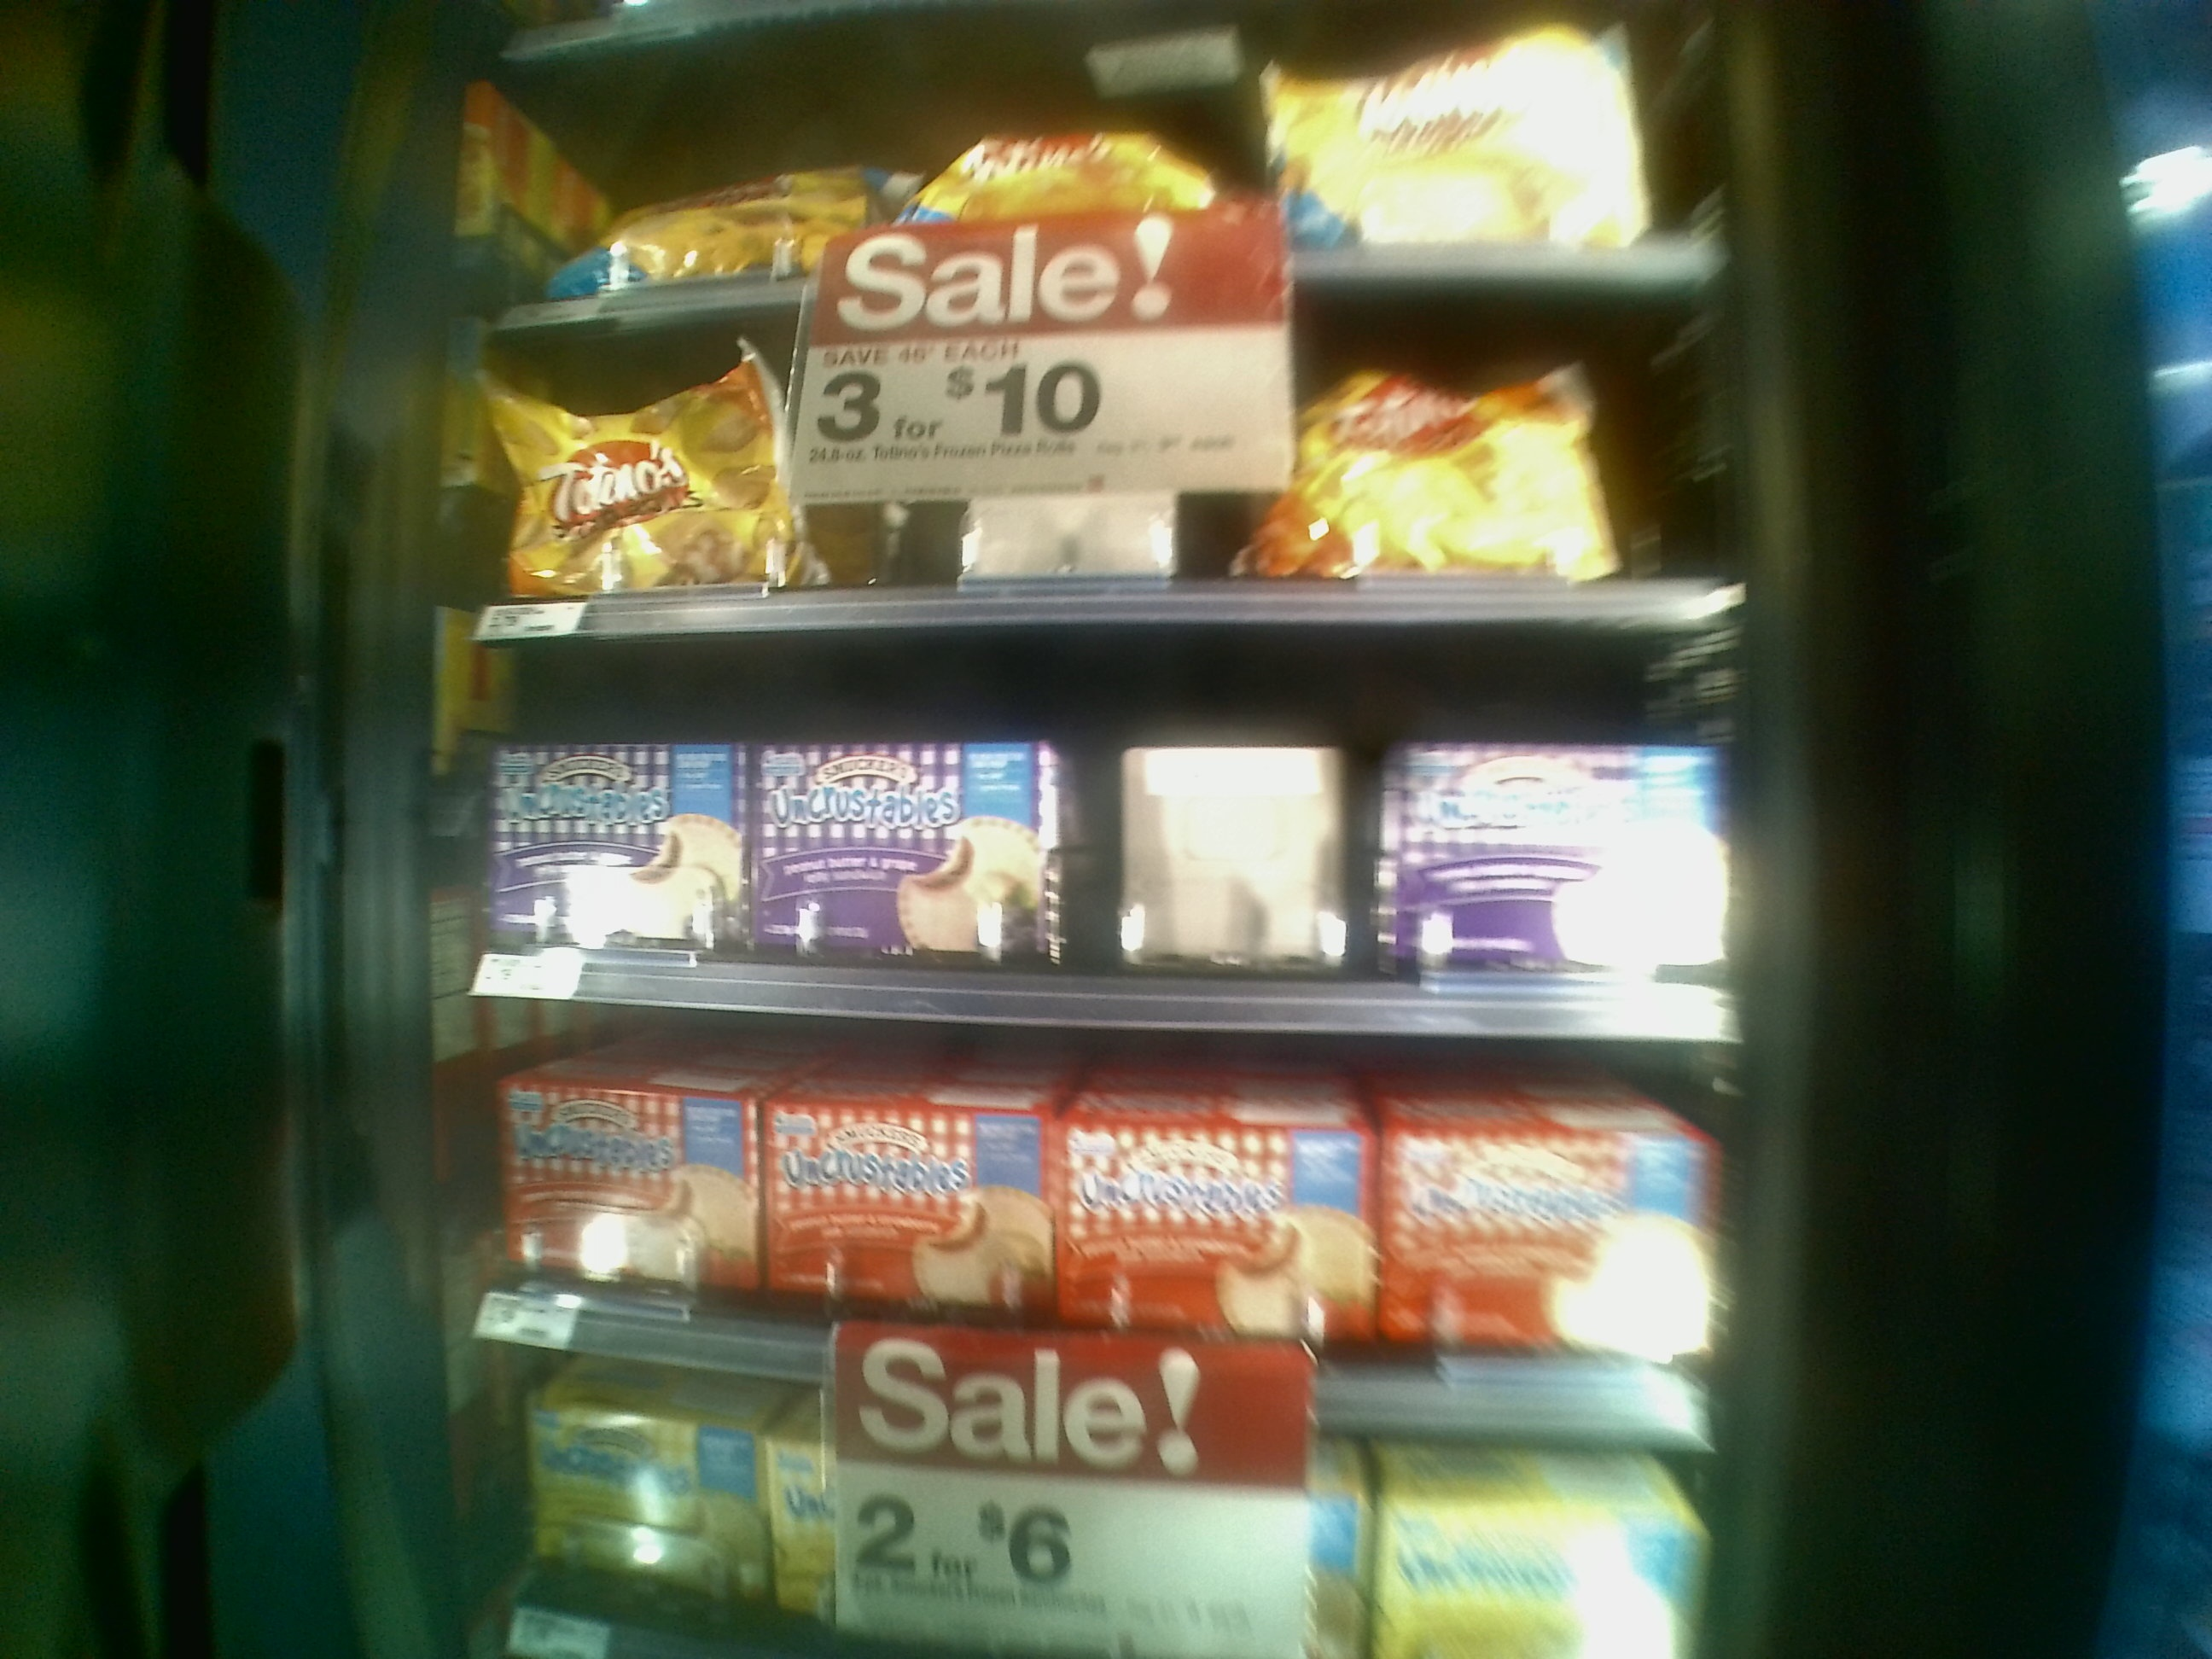shelf: (472, 978, 1693, 1420), (462, 619, 1719, 1021), (465, 303, 1721, 619)
